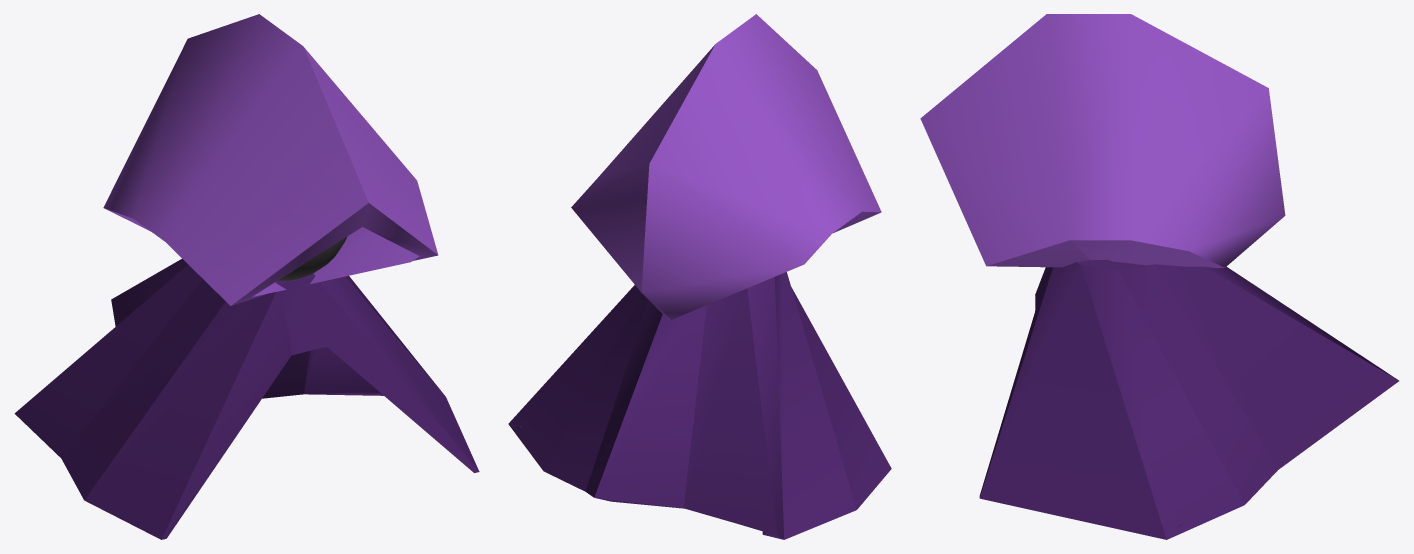
File: player_cloak_mof_2.obj
The picture shows the model from 3 angles, left to right: view 1: azimuth 30°, elevation 25°; view 2: azimuth 150°, elevation 25°; view 3: azimuth 270°, elevation 25°; orthographic projection. The views are drawn at different scales.
Size of the model in its own units: 3.23 by 3.82 by 3.77.
1 material, 1 textured.
